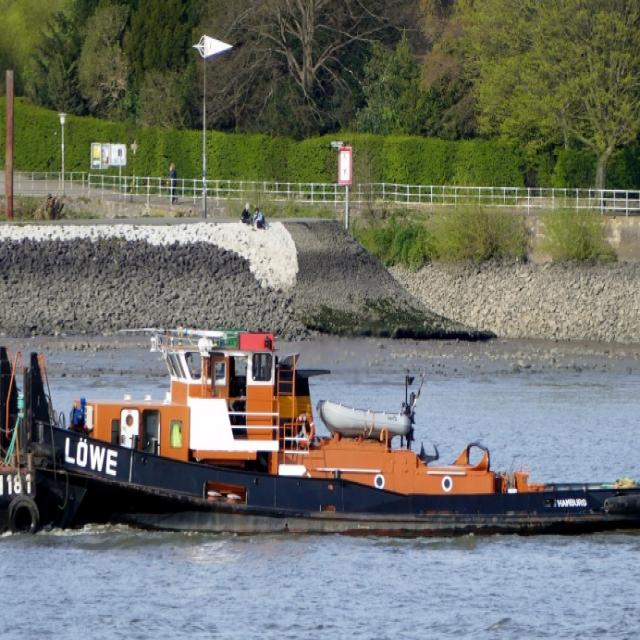tugboat: (1, 320, 640, 551)
